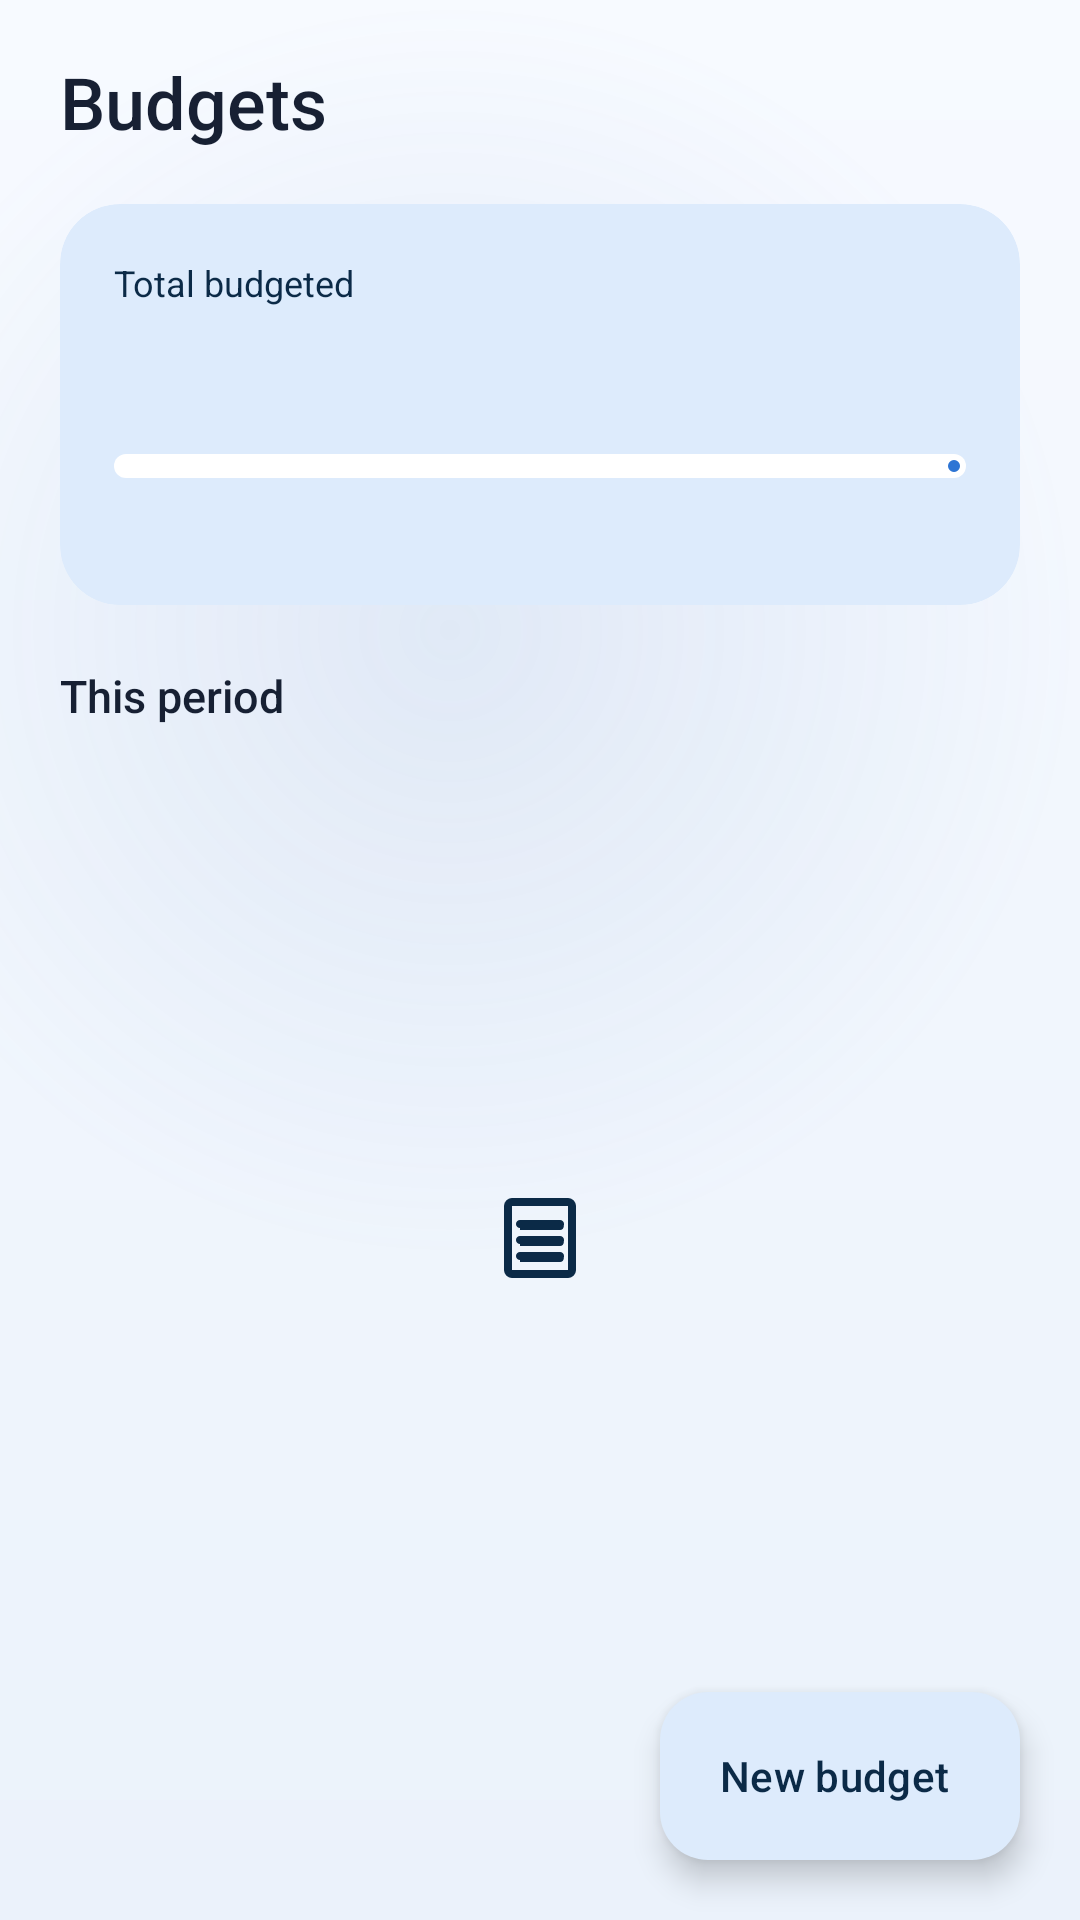

Icons on this 1080w x 1920h Android screen, each with its box as (x1, y1, x2, y2):
transactions: (504, 1198, 576, 1278)
